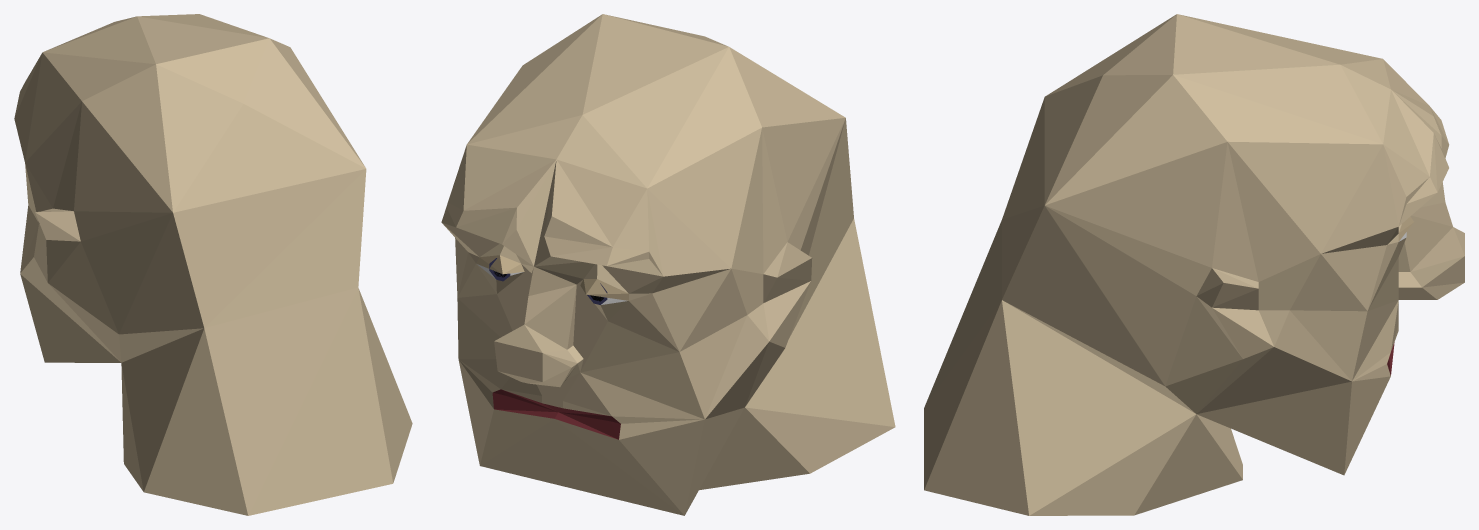
The model's file is npc_chat_toban_0.obj.
3 renders of one model, left to right at view 1: azimuth 30°, elevation 25°; view 2: azimuth 150°, elevation 25°; view 3: azimuth 270°, elevation 25°, orthographic. The views are drawn at different scales.
Size of the model in its own units: 0.7734 by 0.9453 by 1.09.
